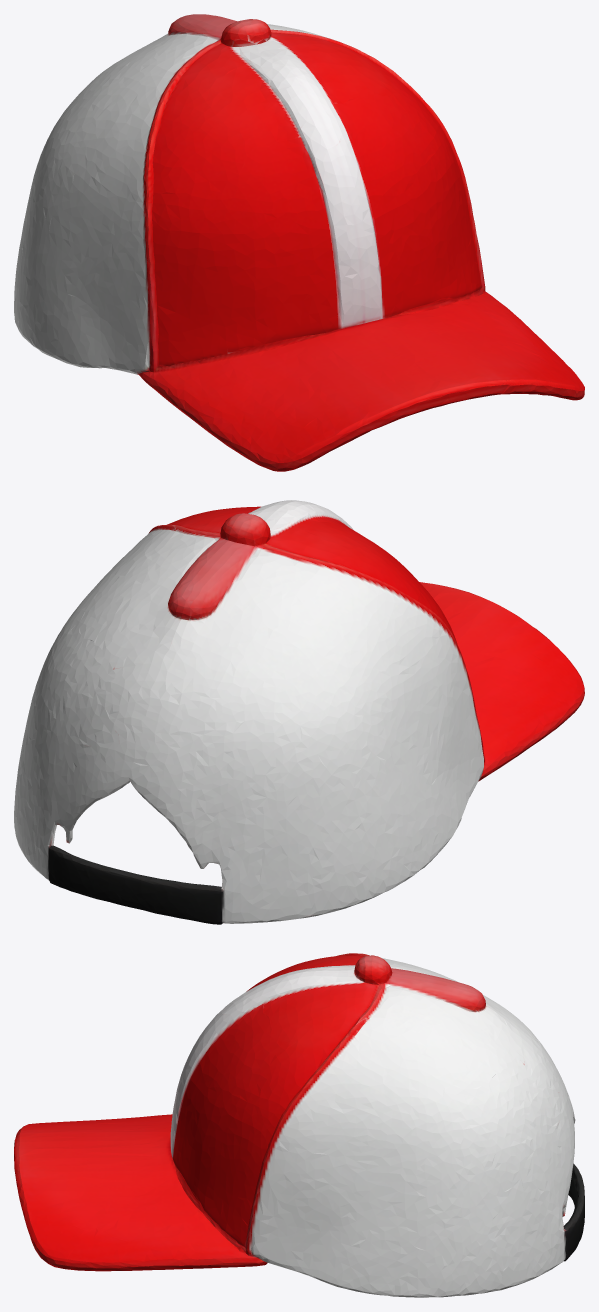
Rendered from hat_cap.glb.
3 views of the same model, one above another, from view 1: azimuth 30°, elevation 25°; view 2: azimuth 150°, elevation 25°; view 3: azimuth 270°, elevation 25° (orthographic). The views are drawn at different scales.
Visible parts, largest first — view 1: world; view 2: world; view 3: world.
Part boxes in pixels (x1,y1,x2,y2): world: (14,14,584,471); world: (14,500,584,924); world: (14,953,584,1297).
Size of the model in its own units: 0.6789 by 0.5163 by 0.9999.
1 material, 1 textured.
